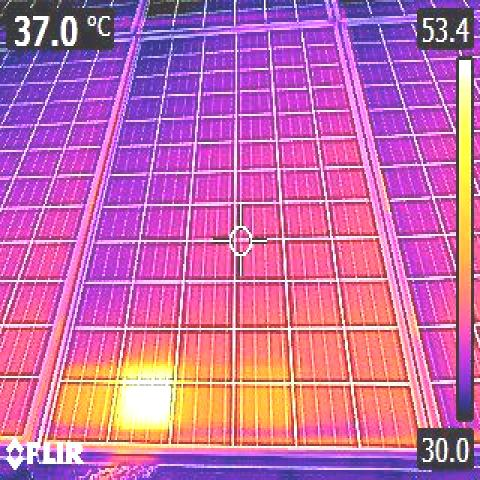fault: (122, 378, 170, 429)
